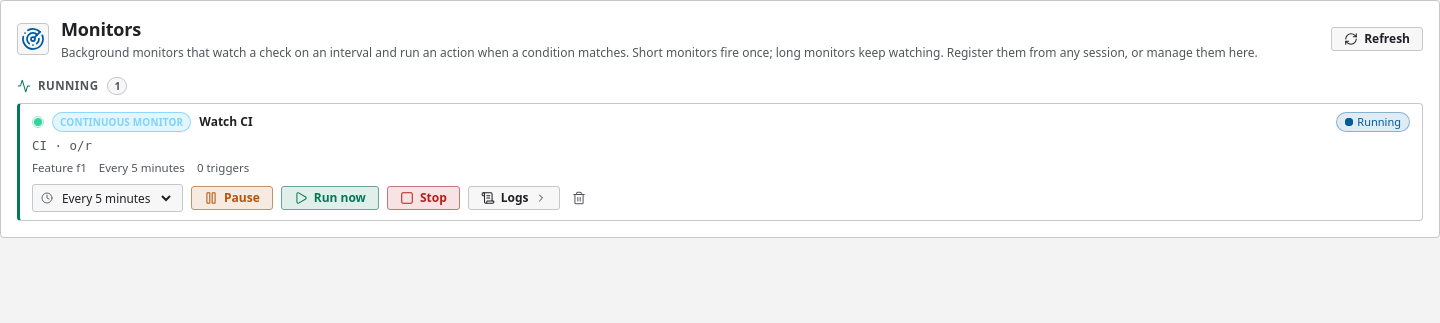
Test: AutomationsView › renders a persisted report body in the run history
What coordinates should you click on to do the following:
click the button "Logs"
I would click on:
 (514, 198)
Its box is [468,186,560,210].
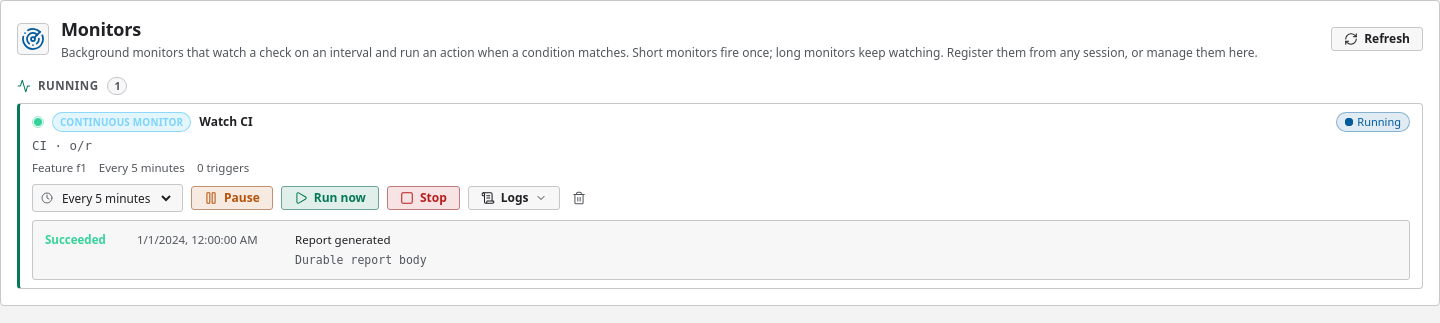
expect the text "Durable report body" is shown: met, box [295,253,427,267]
